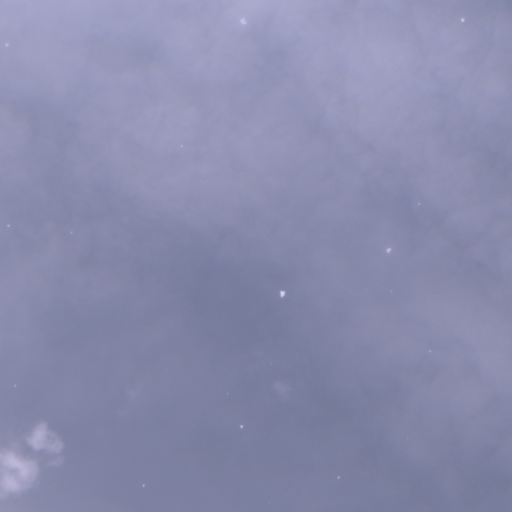Iceberg: (240, 17, 246, 23), (280, 290, 285, 297), (386, 248, 391, 252), (461, 18, 464, 21), (5, 43, 8, 46), (240, 425, 243, 428), (70, 231, 72, 233), (337, 476, 339, 478), (142, 484, 144, 486), (7, 225, 9, 226), (429, 350, 431, 351), (181, 145, 182, 146), (418, 203, 419, 204), (14, 385, 15, 386)
